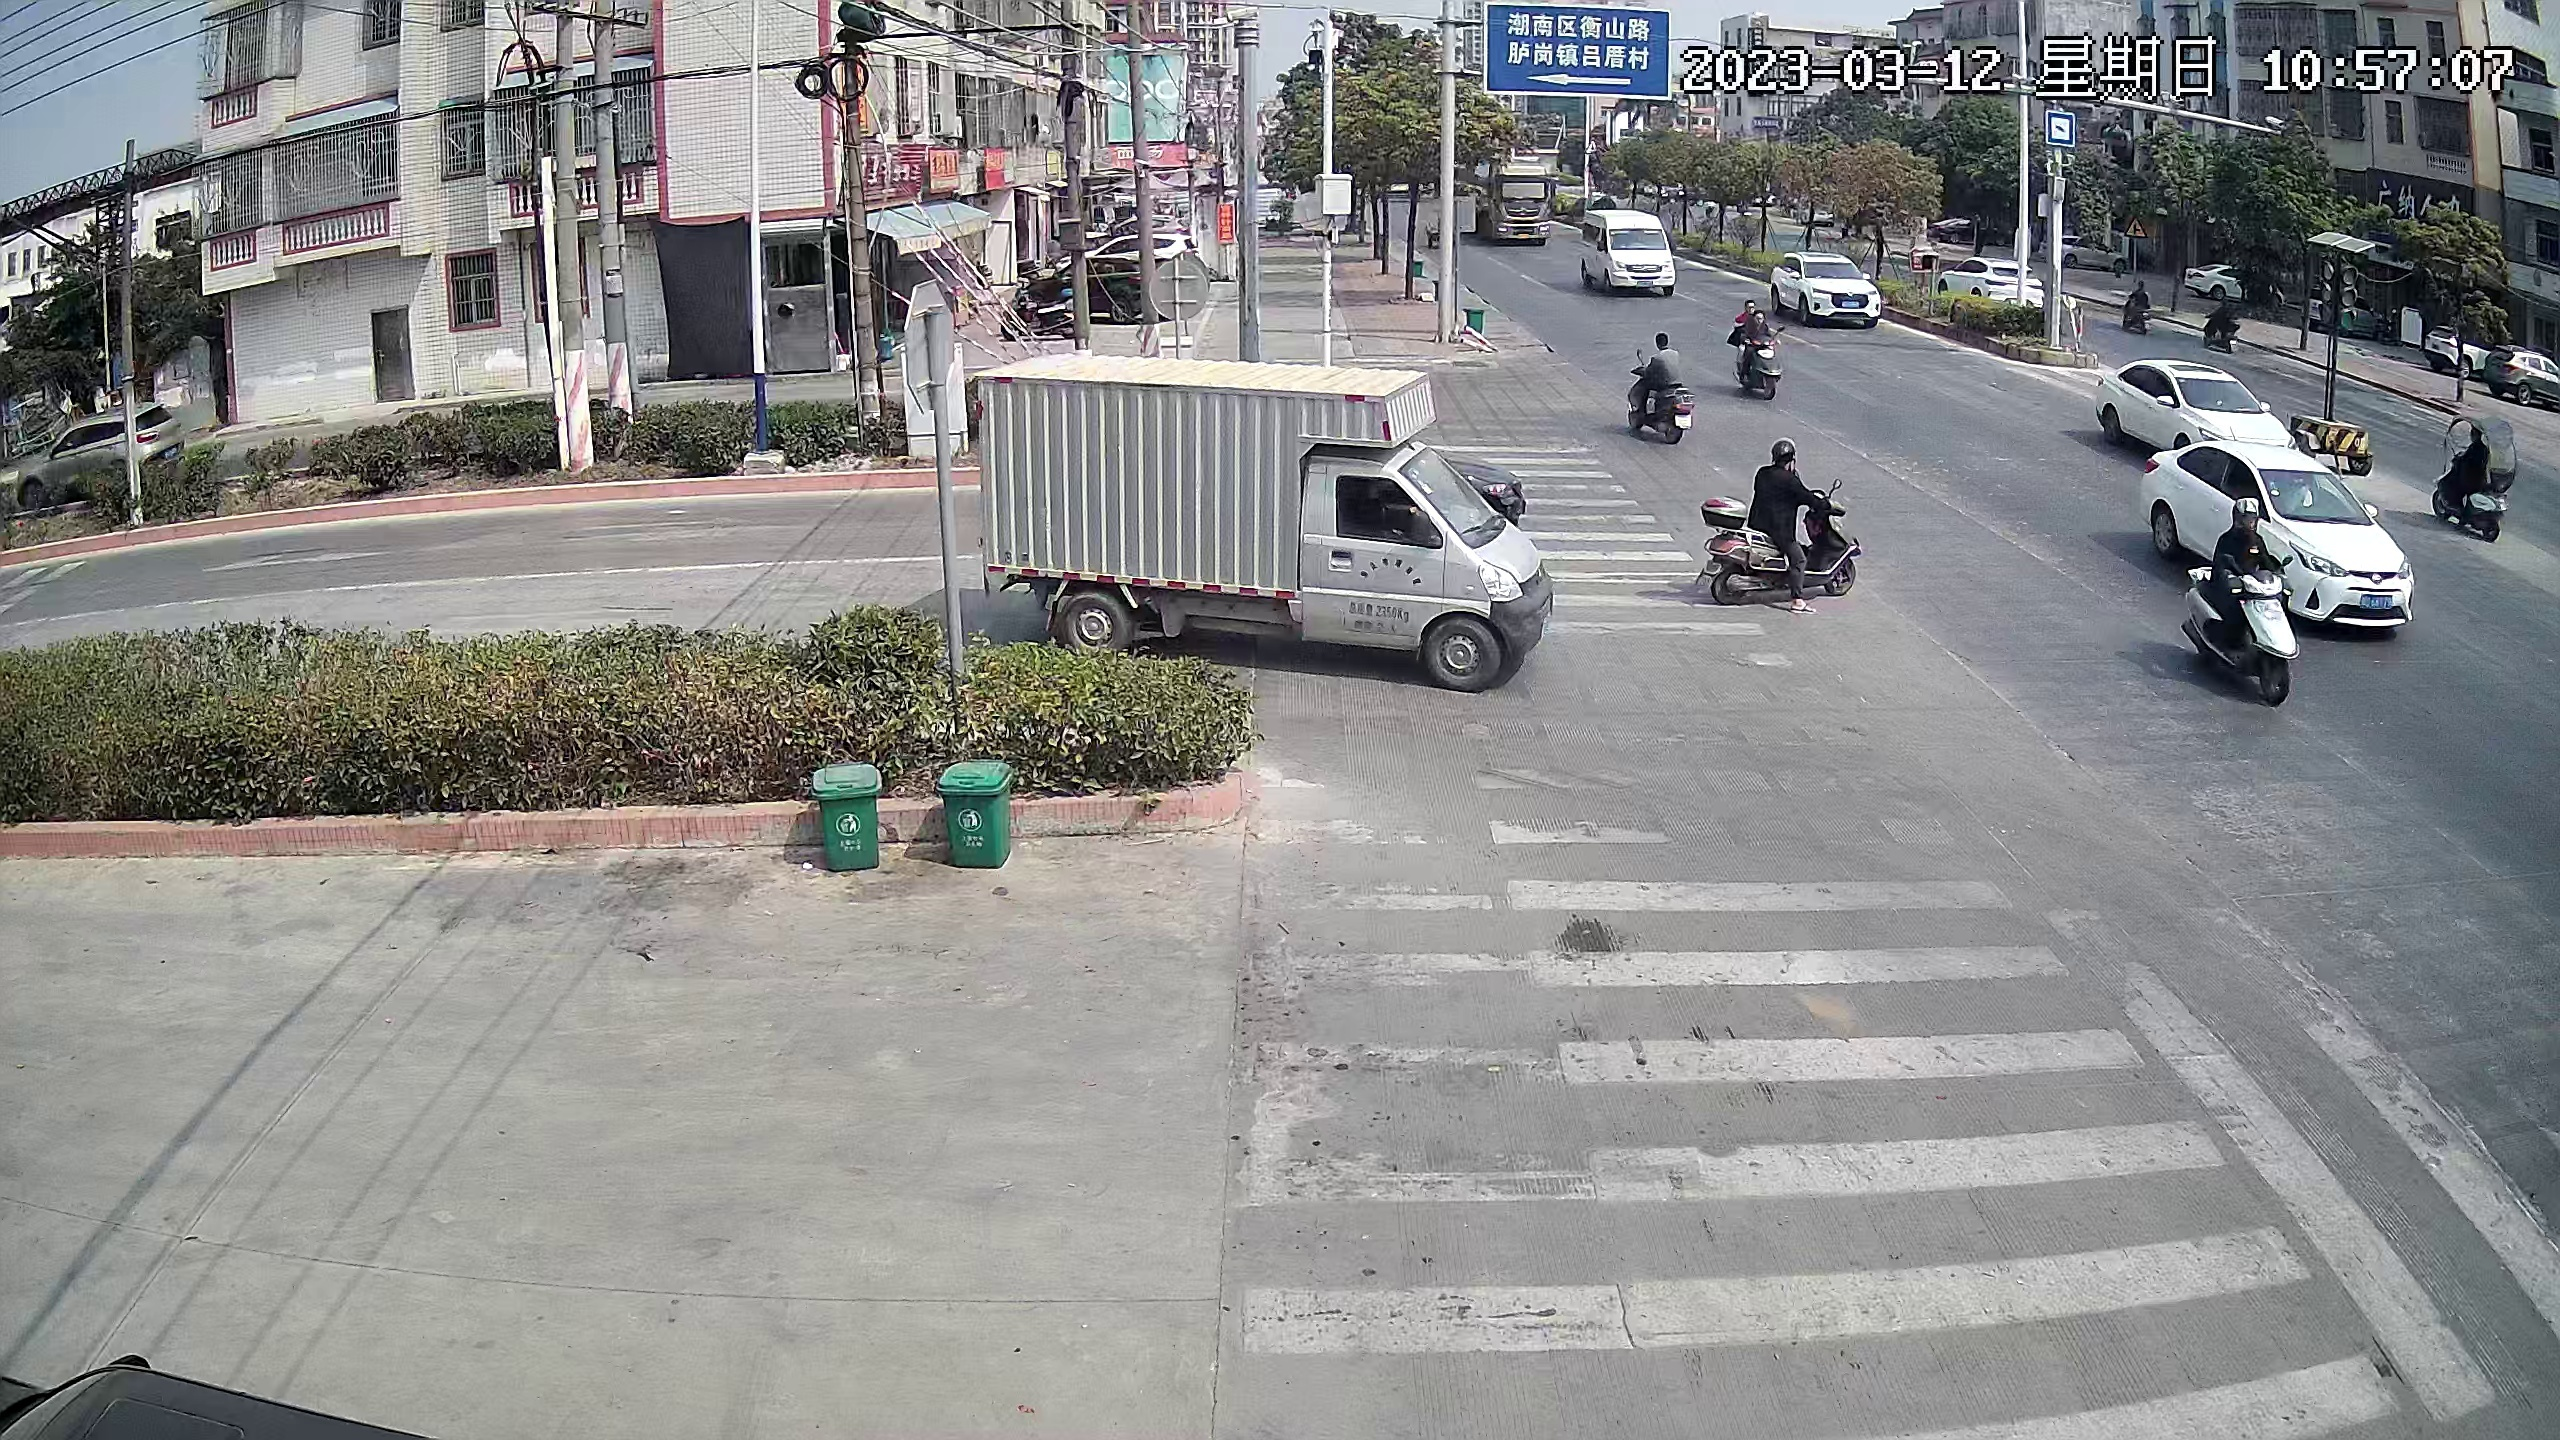bus: (1578, 207, 1682, 309)
motorcycle: (1708, 430, 1864, 625), (2173, 504, 2298, 704), (2437, 398, 2515, 547), (1625, 328, 1695, 445), (1729, 302, 1785, 400), (1005, 283, 1090, 342), (2202, 294, 2244, 358), (2115, 275, 2153, 339)
person: (1750, 433, 1823, 615), (2205, 494, 2270, 590), (1647, 332, 1682, 430)
sedan: (2143, 443, 2410, 619), (2098, 348, 2293, 452), (1047, 255, 1170, 312), (1939, 245, 2043, 309), (2492, 342, 2554, 405), (2189, 257, 2250, 304), (2430, 322, 2479, 377), (2062, 230, 2119, 274)
suv: (1765, 252, 1889, 335)
truck: (967, 347, 1564, 717), (1477, 147, 1552, 250)
